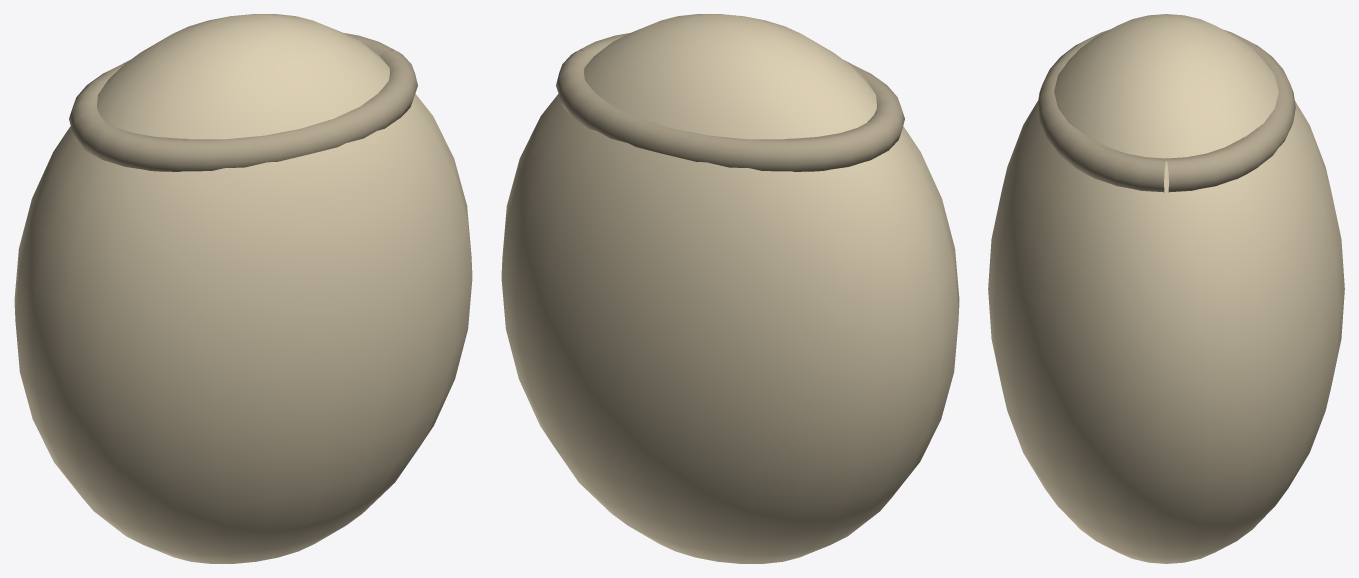
Rendered from boer_zaaien_gereedschap.glb.
3 renders of one model, left to right at view 1: azimuth 30°, elevation 25°; view 2: azimuth 150°, elevation 25°; view 3: azimuth 270°, elevation 25°, orthographic. The views are drawn at different scales.
Visible parts, largest first — view 1: Seed_bag, Seed_bag_rim; view 2: Seed_bag, Seed_bag_rim; view 3: Seed_bag, Seed_bag_rim.
Boxes of the visible parts, x1=… form: Seed_bag: x1=14, y1=14, x2=472, y2=563; Seed_bag_rim: x1=69, y1=33, x2=417, y2=171; Seed_bag: x1=501, y1=14, x2=959, y2=563; Seed_bag_rim: x1=556, y1=33, x2=904, y2=171; Seed_bag: x1=988, y1=14, x2=1344, y2=563; Seed_bag_rim: x1=1037, y1=30, x2=1295, y2=192.
Size of the model in its own units: 0.32 by 0.38 by 0.24.
